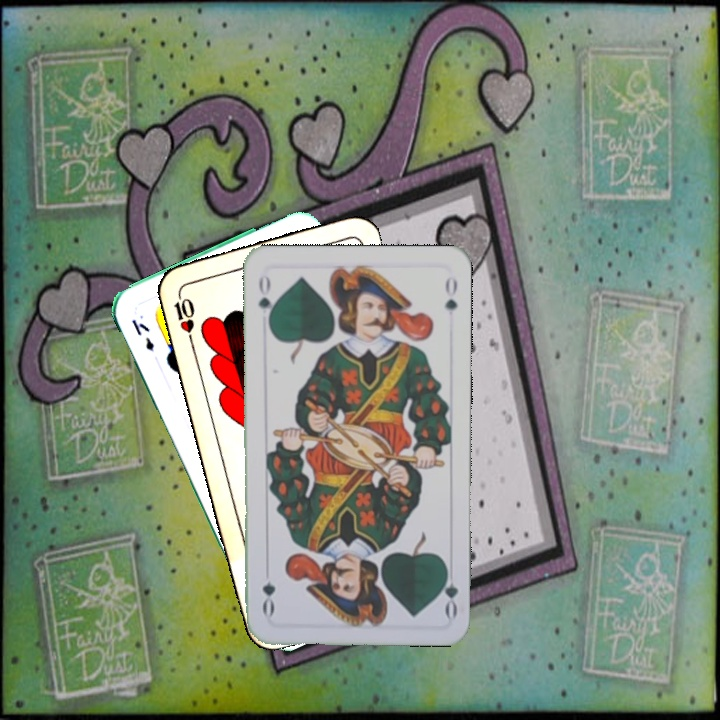EK: (127, 314, 157, 354)
GO: (436, 560, 461, 619), (254, 271, 277, 329)
H10: (169, 287, 198, 346)
